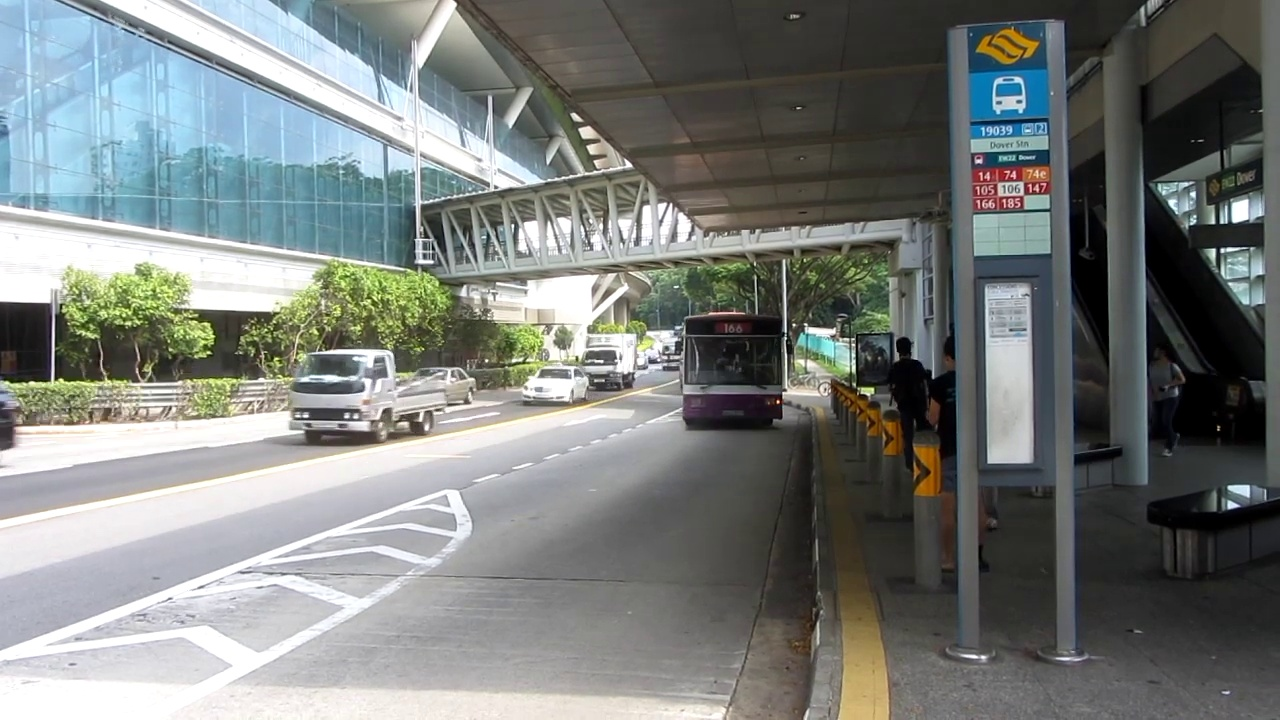bus panel: (713, 321, 754, 335)
